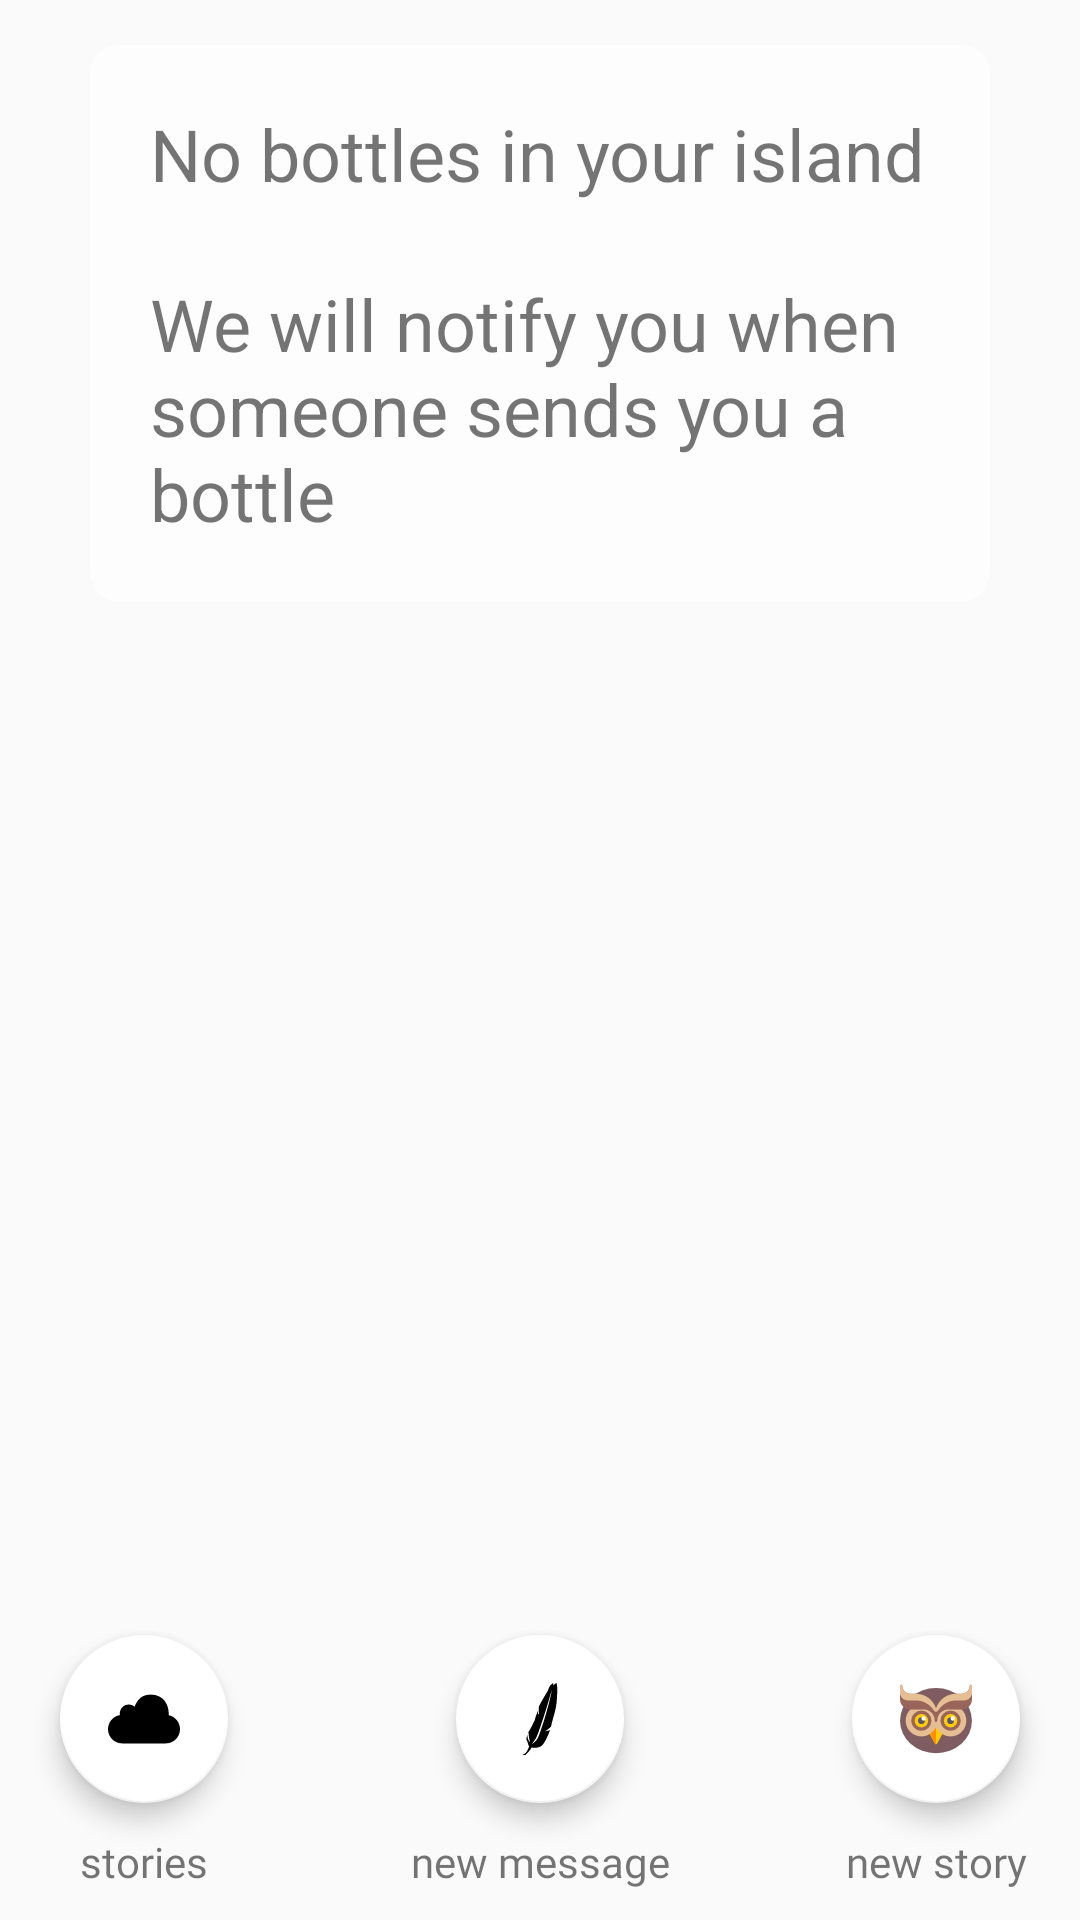

Screen size 1080px x 1920px. Icon name, then its box in pixels as rect(x1, y1, x2, y2):
cloud: rect(108, 1694, 224, 1751)
feather: rect(456, 1683, 624, 1803)
owl: rect(856, 1684, 972, 1754)
